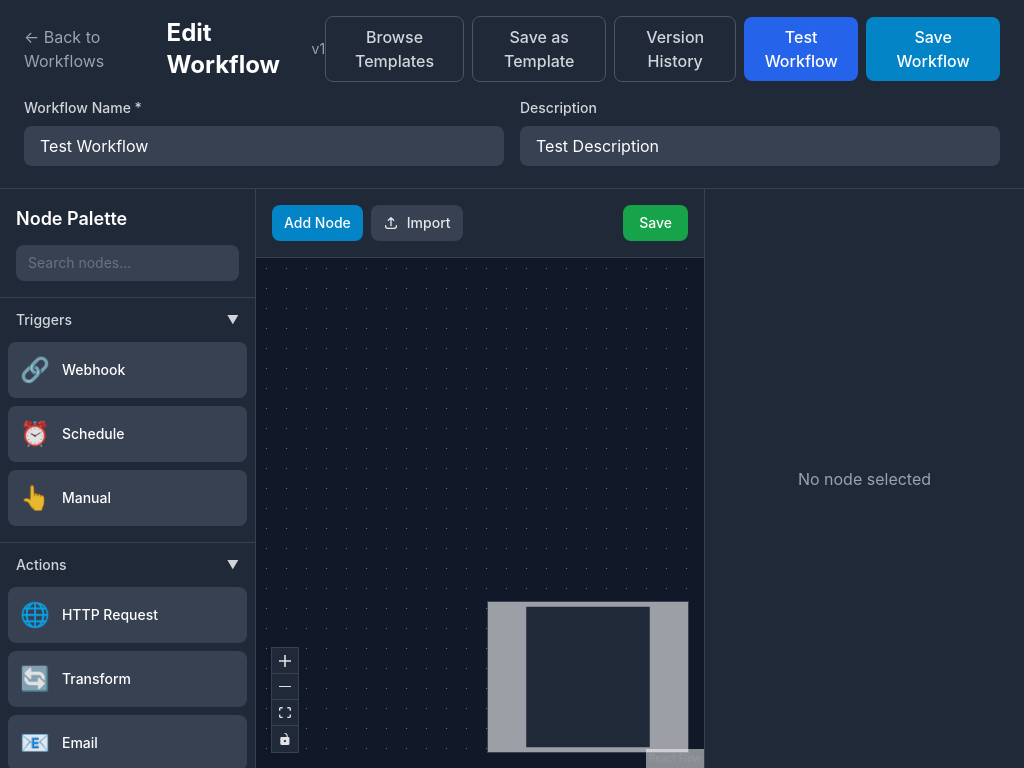
Test case: WorkflowEditor › Dry Run / Test Workflow › should show errors in dry run results
This screenshot has width=1024, height=768.
Click the button "Test Workflow" at (801, 49), box 744,17 -> 858,81
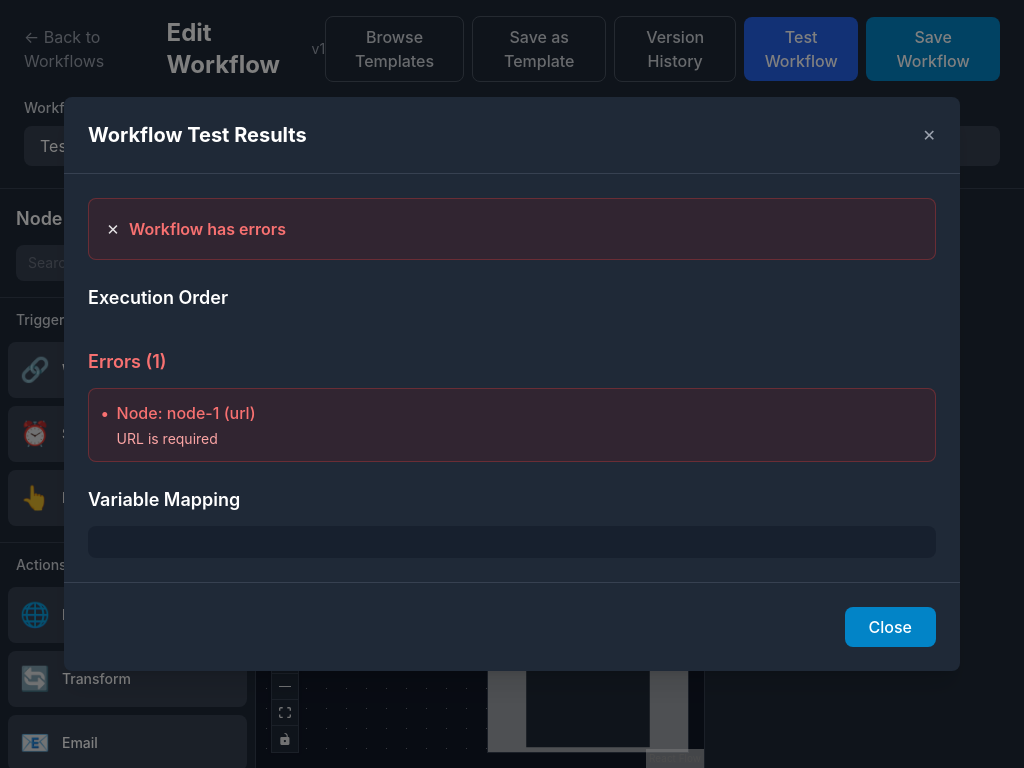
Expected: the text "Workflow has errors" is shown, 129,217 -> 286,241
Expected: the text "URL is required" is shown, 117,430 -> 218,447
